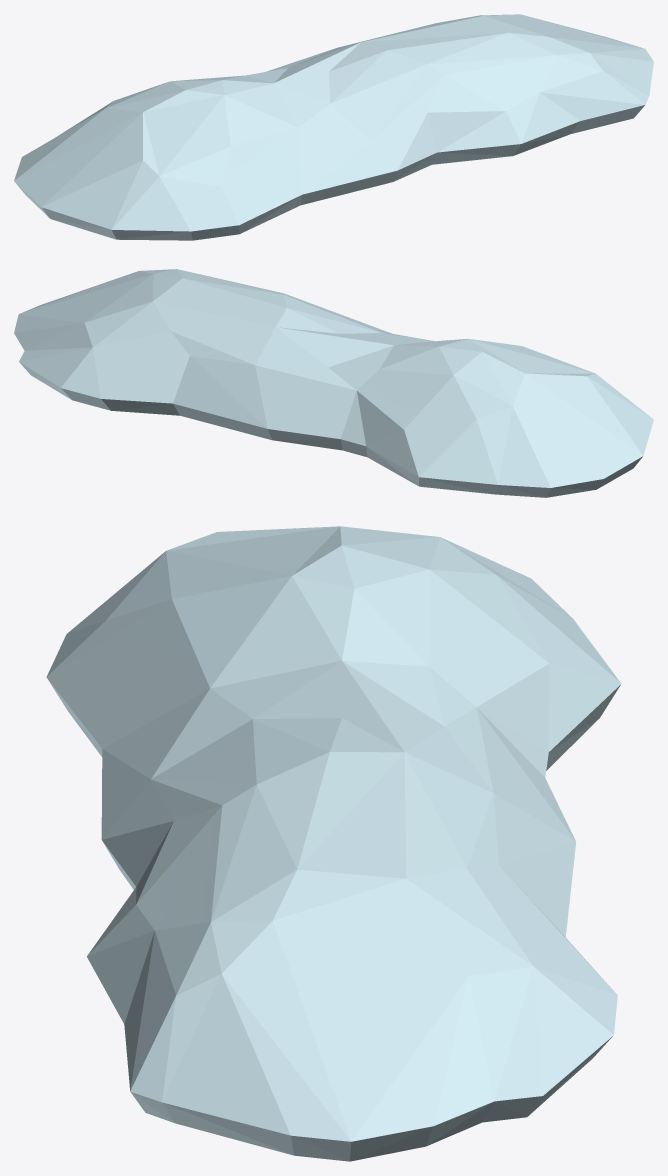
Rendered from SM_Env_SnowPile_03.gltf.
3 views of the same model, one above another, from view 1: azimuth 30°, elevation 25°; view 2: azimuth 150°, elevation 25°; view 3: azimuth 270°, elevation 25° (orthographic). The views are drawn at different scales.
Visible parts, largest first — view 1: SM_Env_SnowPile_03; view 2: SM_Env_SnowPile_03; view 3: SM_Env_SnowPile_03.
Part boxes in pixels (box(x1,y1,x2,y2)): SM_Env_SnowPile_03: box(14, 14, 653, 240); SM_Env_SnowPile_03: box(14, 269, 653, 497); SM_Env_SnowPile_03: box(46, 526, 621, 1161).
Size of the model in its own units: 9.39 by 1.32 by 3.81.
Materials: 1 (1 with a texture image).
